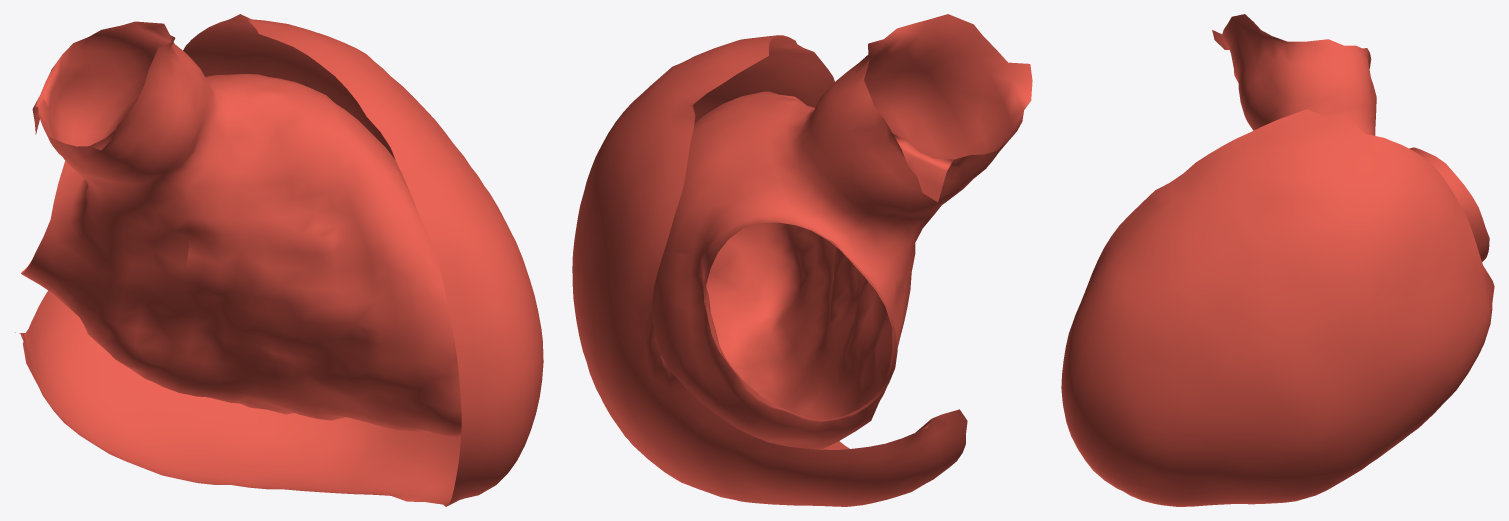
The model's file is leftventricle.glb.
The picture shows the model from 3 angles, left to right: view 1: azimuth 30°, elevation 25°; view 2: azimuth 150°, elevation 25°; view 3: azimuth 270°, elevation 25°; orthographic projection. The views are drawn at different scales.
Parts seen in each view (by area): view 1: Leftventricle; view 2: Leftventricle; view 3: Leftventricle.
Part boxes in pixels (bbox=[...]): Leftventricle: bbox=[15, 14, 543, 506]; Leftventricle: bbox=[572, 14, 1032, 506]; Leftventricle: bbox=[1061, 14, 1494, 506].
Size of the model in its own units: 2.46 by 2.75 by 2.69.
